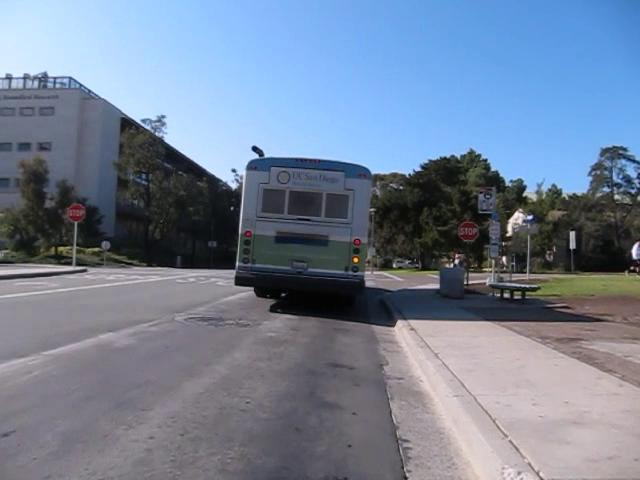stop: (458, 219, 479, 244), (66, 202, 86, 222)
